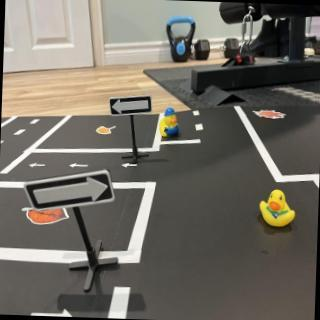duck_regular: (259, 184, 300, 233)
duck_specialty: (158, 109, 184, 142)
road_oneway: (69, 160, 92, 172), (28, 160, 49, 172), (120, 163, 140, 173)
sign_oneway_left: (111, 96, 155, 117)
sign_oneway_right: (27, 166, 117, 214)
